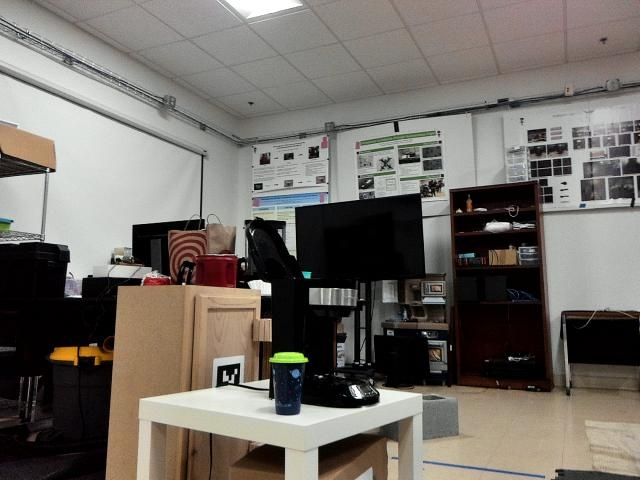useless_cup: (268, 348, 308, 412)
